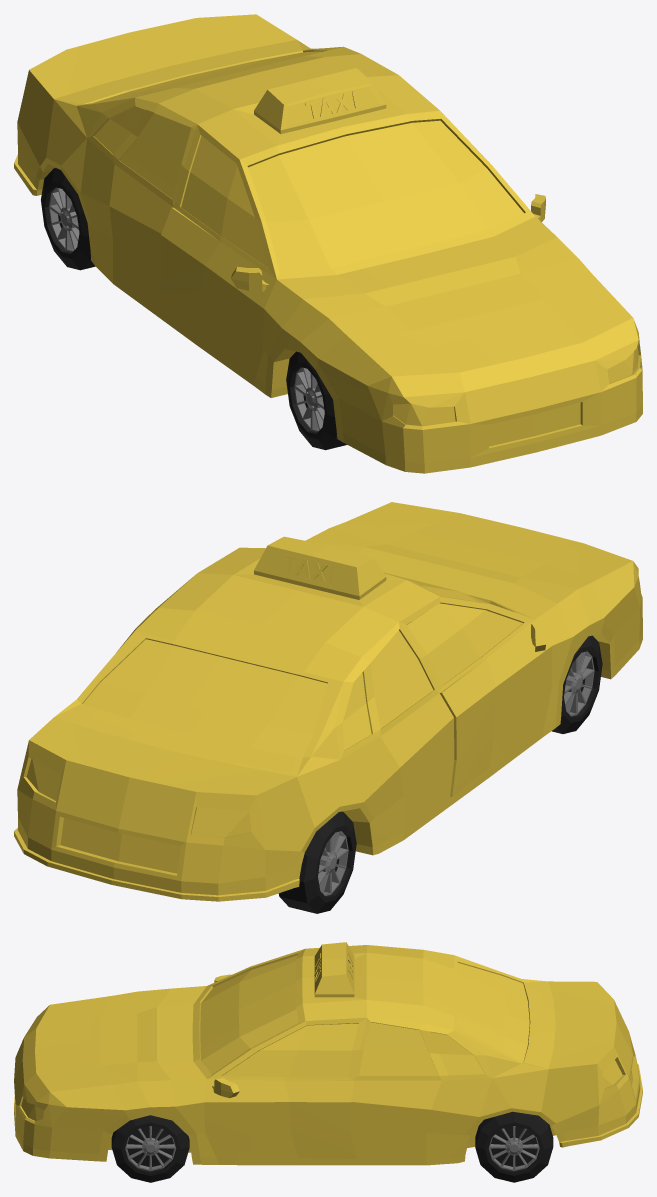
File: Taxi.fbx
3 views of the same model, one above another, from view 1: azimuth 30°, elevation 25°; view 2: azimuth 150°, elevation 25°; view 3: azimuth 270°, elevation 25° (orthographic). The views are drawn at different scales.
Visible parts, largest first — view 1: Taxi, Taxi_BackWheels, Taxi_FrontRightWheel; view 2: Taxi, Taxi_BackWheels, Taxi_FrontRightWheel; view 3: Taxi, Taxi_BackWheels, Taxi_FrontLeftWheel.
Boxes of the visible parts, box(x1,y1,x2,y2) form: Taxi: box(14, 14, 642, 473); Taxi_BackWheels: box(41, 168, 95, 270); Taxi_FrontRightWheel: box(286, 351, 346, 450); Taxi: box(14, 502, 642, 901); Taxi_BackWheels: box(278, 811, 356, 913); Taxi_FrontRightWheel: box(552, 635, 602, 733); Taxi: box(14, 942, 642, 1165); Taxi_BackWheels: box(475, 1111, 553, 1182); Taxi_FrontLeftWheel: box(111, 1115, 189, 1182).
Size of the model in its own units: 181 by 131 by 422.
